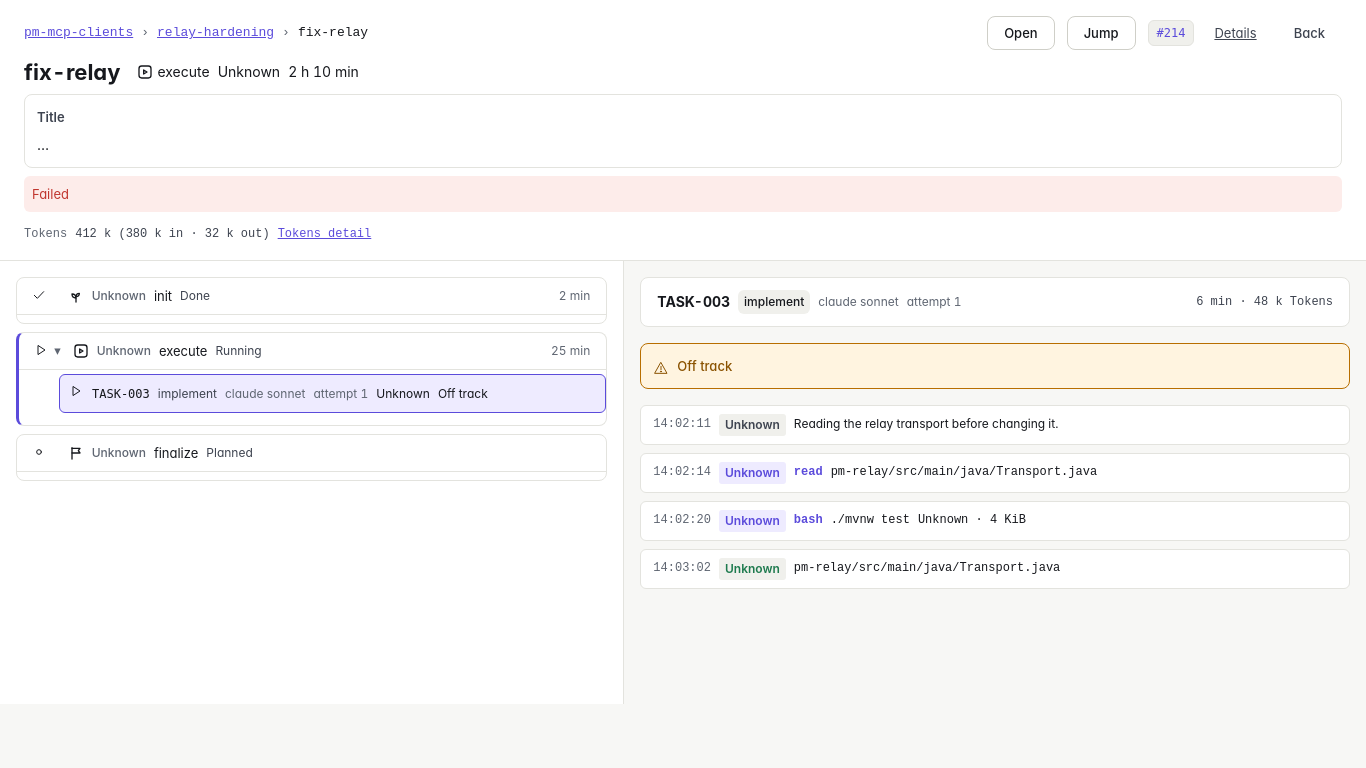
Scenario: PlanView component › keeps the selection when the expand toggle collapses a node
Expected: the heading "fix-relay" is shown, x1=24 y1=62 x2=120 y2=82
Expected: the element with test id "activity-feed" is shown, x1=640 y1=277 x2=1350 y2=589
Click the button with test id "toggle-node-execute". click: point(46, 351)
box: x1=31 y1=341 x2=61 y2=361
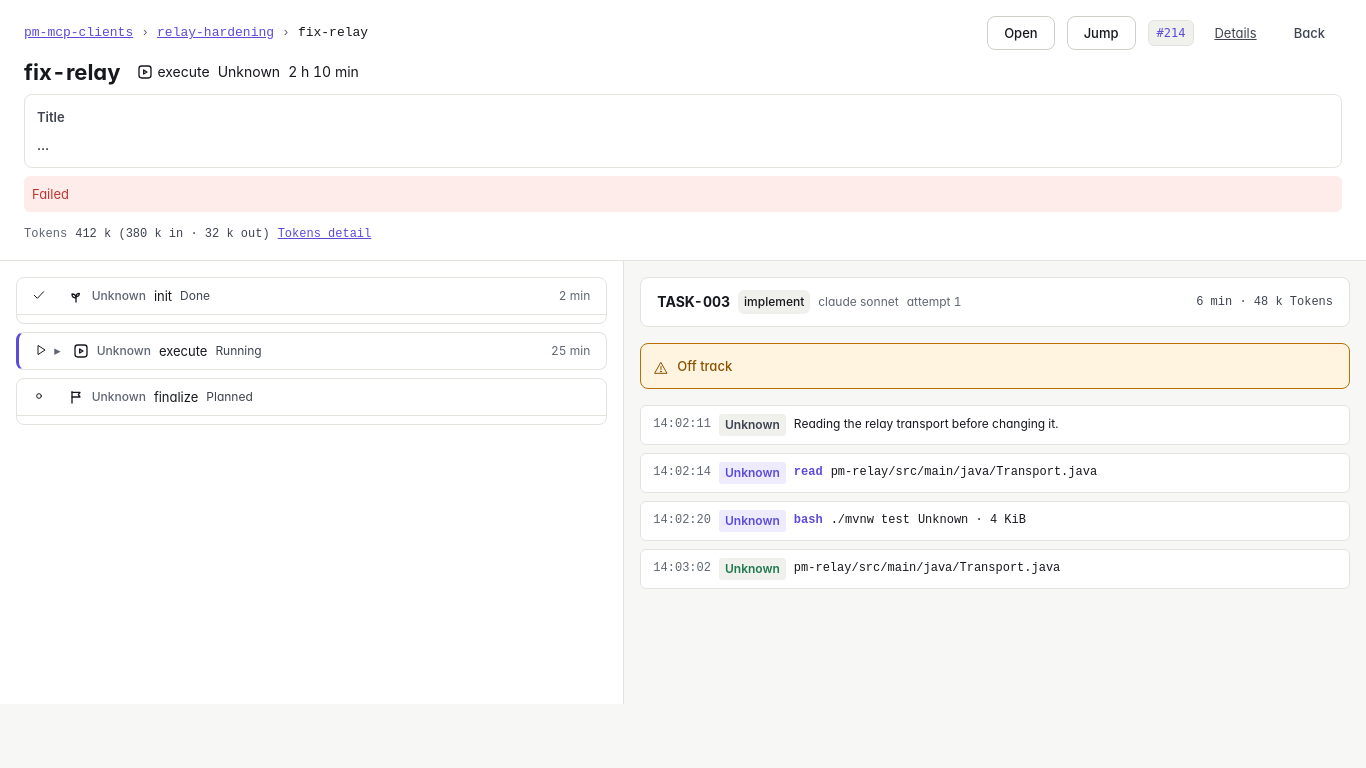
Now the button with test id "toggle-node-execute" is collapsed, box x1=31 y1=341 x2=61 y2=361
